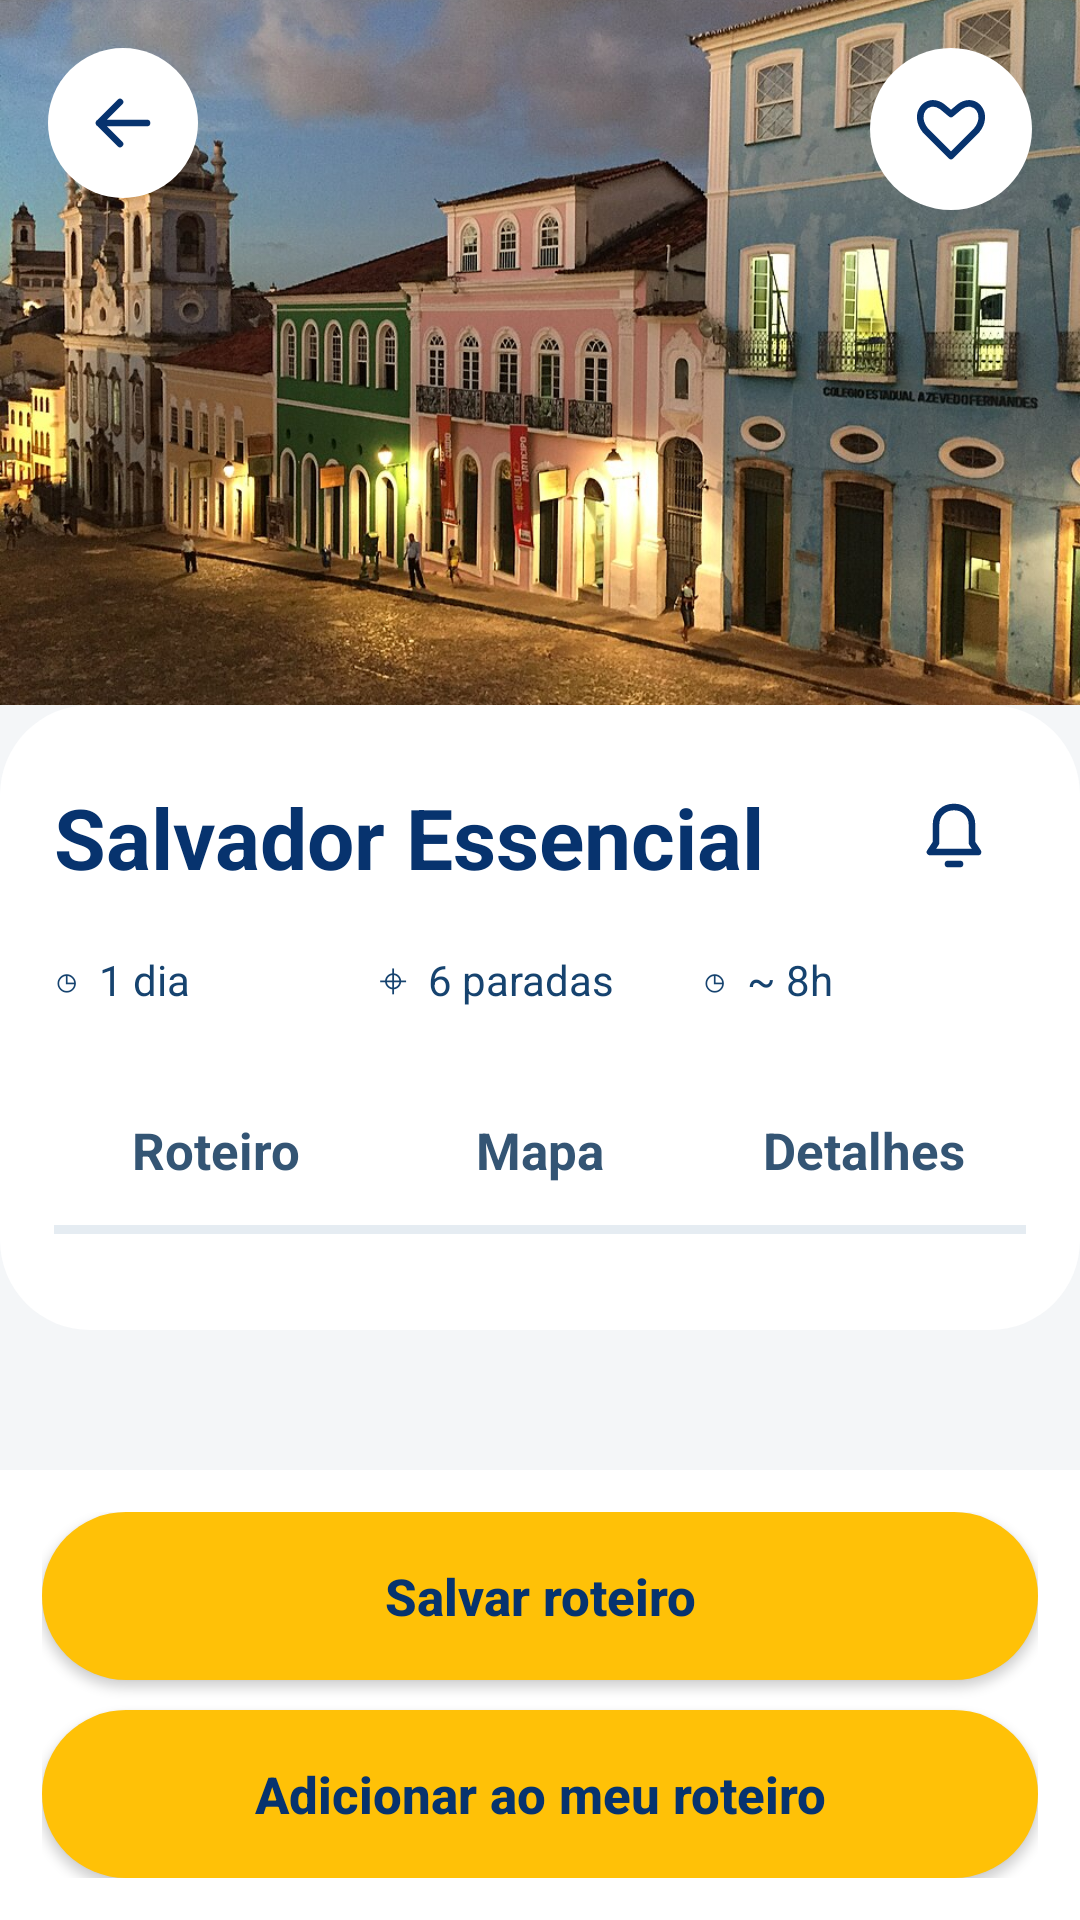

Screen size 1080 x 1920. Icon name, then its center in pixels as (x=x, y=y):
Favoritar roteiro: (x=951, y=129)
Notificações do roteiro: (x=954, y=835)
Voltar: (x=123, y=123)
